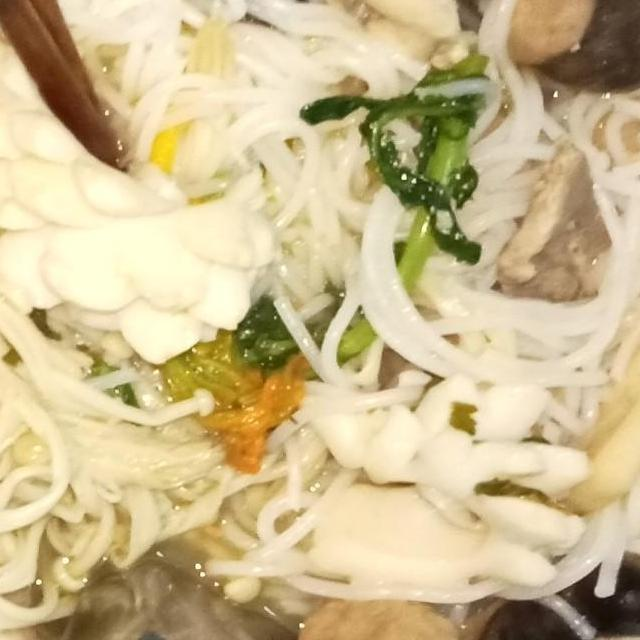bun: (401, 46, 640, 458), (18, 0, 436, 210), (228, 100, 472, 423)
muc: (0, 0, 285, 379), (276, 355, 594, 610)
